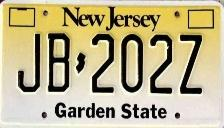0: (119, 32, 145, 94)
2: (90, 32, 118, 95), (149, 32, 176, 95)
B: (45, 31, 73, 94)
J: (16, 31, 43, 94)
Z: (177, 33, 206, 96)
